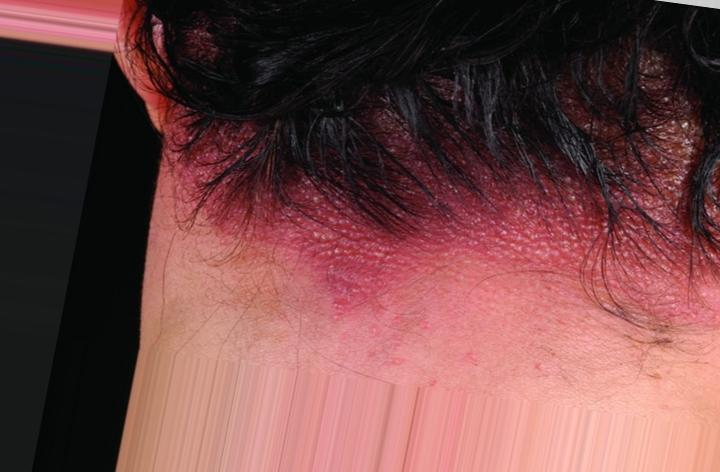Contact Dermatitis: (202, 91, 690, 300)
